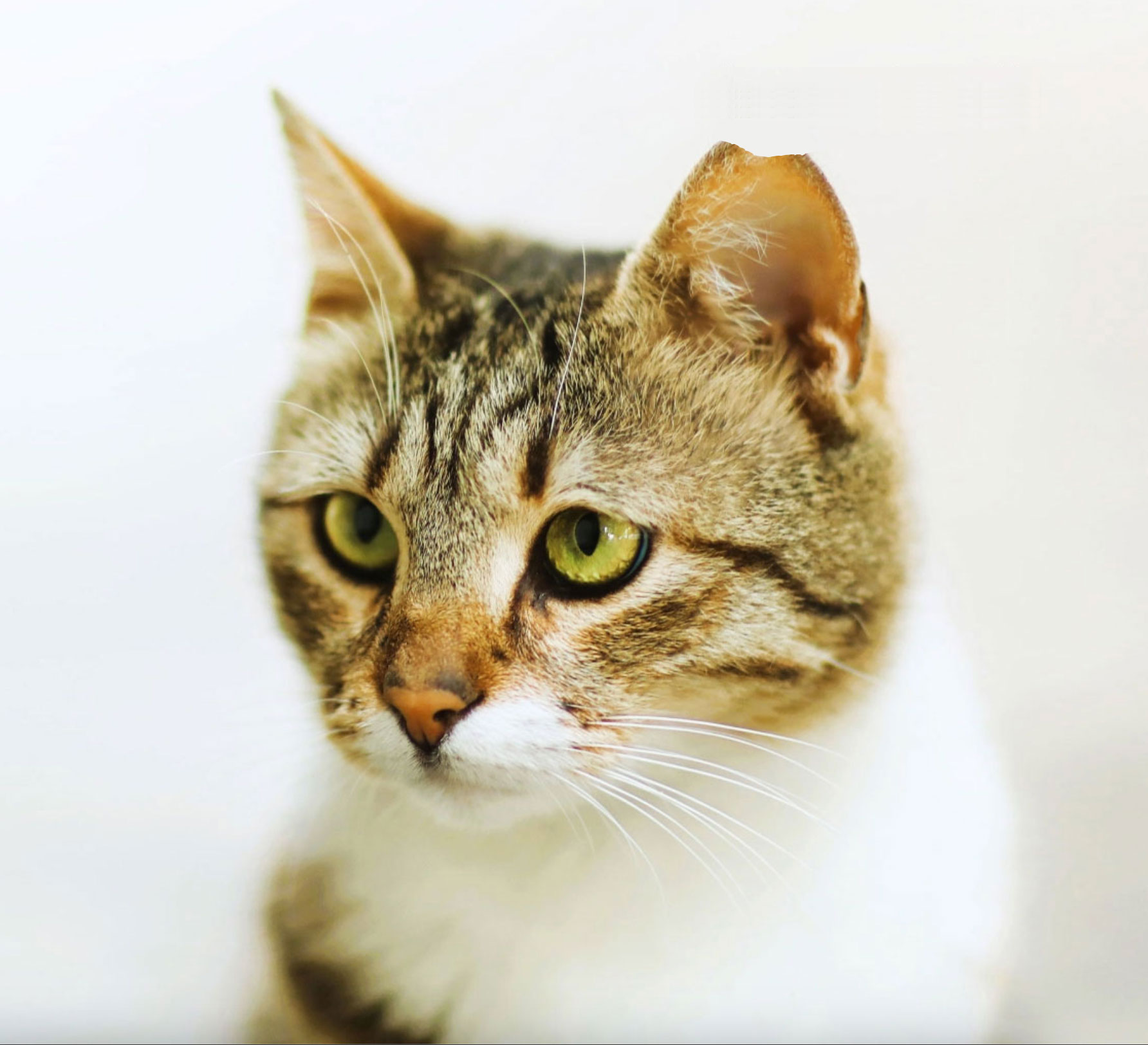Cat: (168, 77, 1048, 1045)
